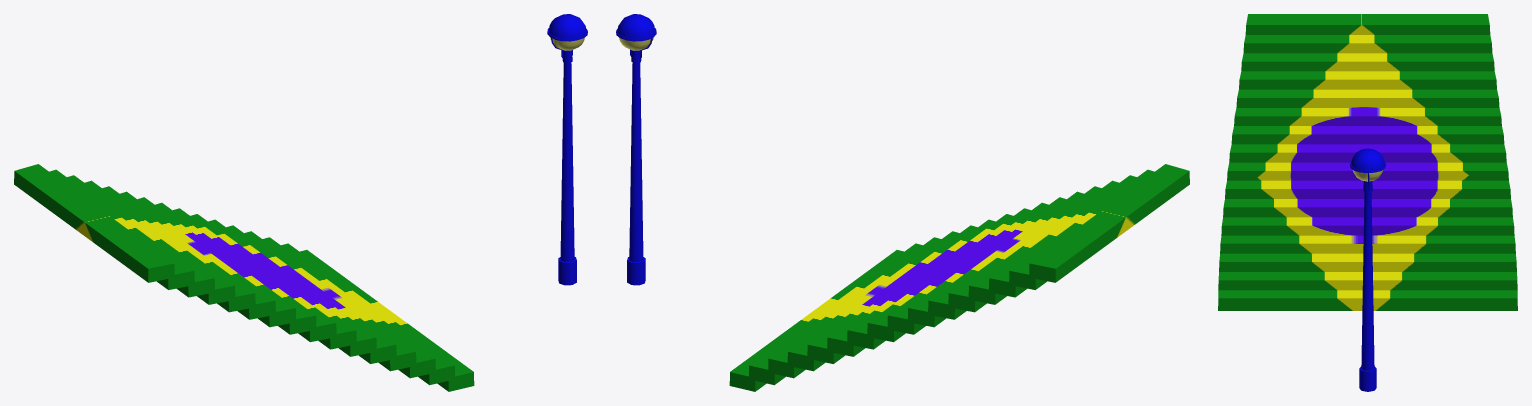
The model's file is escadabrasil.fbx.
3 views of the same model, side by side, from view 1: azimuth 30°, elevation 25°; view 2: azimuth 150°, elevation 25°; view 3: azimuth 270°, elevation 25° (orthographic). The views are drawn at different scales.
Parts seen in each view (by area): view 1: Escada, poste; view 2: Escada, poste; view 3: Escada, poste.
Part boxes in pixels (x1=…): Escada: x1=14, y1=164, x2=474, y2=391; poste: x1=547, y1=14, x2=587, y2=285; Escada: x1=729, y1=164, x2=1189, y2=391; poste: x1=616, y1=14, x2=656, y2=285; Escada: x1=1218, y1=14, x2=1517, y2=310; poste: x1=1350, y1=148, x2=1385, y2=391.
Size of the model in its own units: 453 by 228 by 261.
